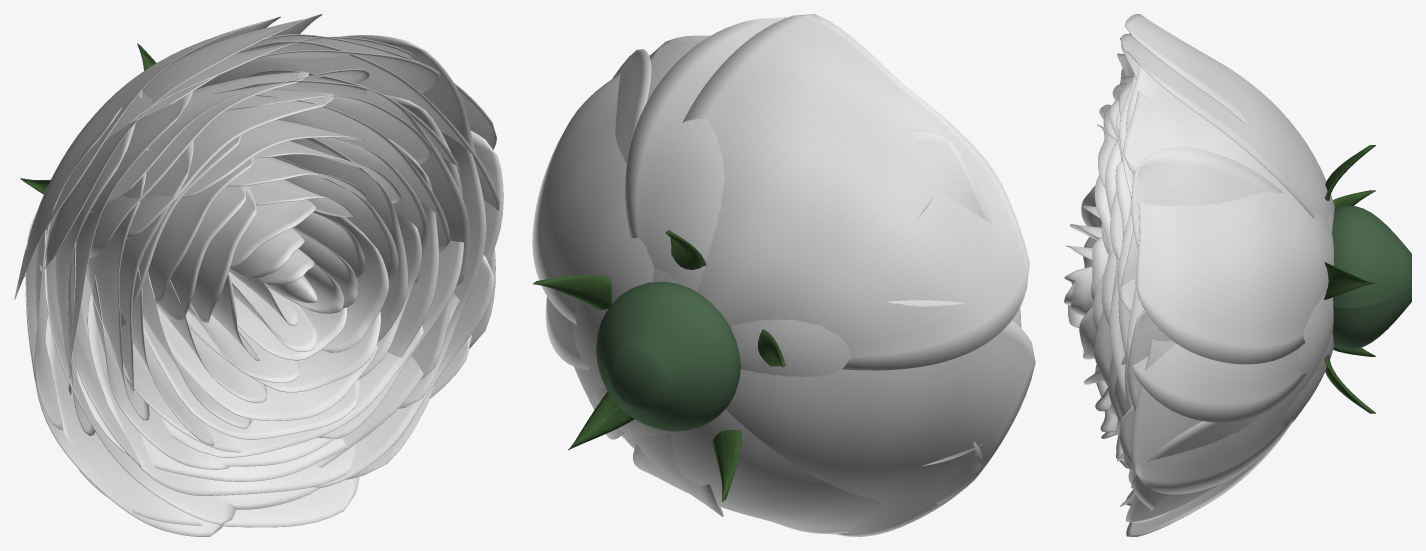
The model's file is rose-3-high.glb.
The picture shows the model from 3 angles, left to right: view 1: azimuth 30°, elevation 25°; view 2: azimuth 150°, elevation 25°; view 3: azimuth 270°, elevation 25°; orthographic projection. The views are drawn at different scales.
Parts seen in each view (by area): view 1: Rose_3_high_Petals; view 2: Rose_3_high_Petals, Rose_3_high_Receptacle, Rose_3_high_Sepals; view 3: Rose_3_high_Petals, Rose_3_high_Receptacle, Rose_3_high_Sepals.
Boxes of the visible parts, <box> form: Rose_3_high_Petals: <box>14,14,503,536</box>; Rose_3_high_Petals: <box>532,14,1035,536</box>; Rose_3_high_Receptacle: <box>596,281,740,431</box>; Rose_3_high_Sepals: <box>533,230,785,501</box>; Rose_3_high_Petals: <box>1064,14,1334,536</box>; Rose_3_high_Receptacle: <box>1332,205,1411,349</box>; Rose_3_high_Sepals: <box>1323,145,1375,413</box>.
Bounding box in the file's own units: 0.7399 × 0.7653 × 0.5054.
Materials: 3 (2 with a texture image).
